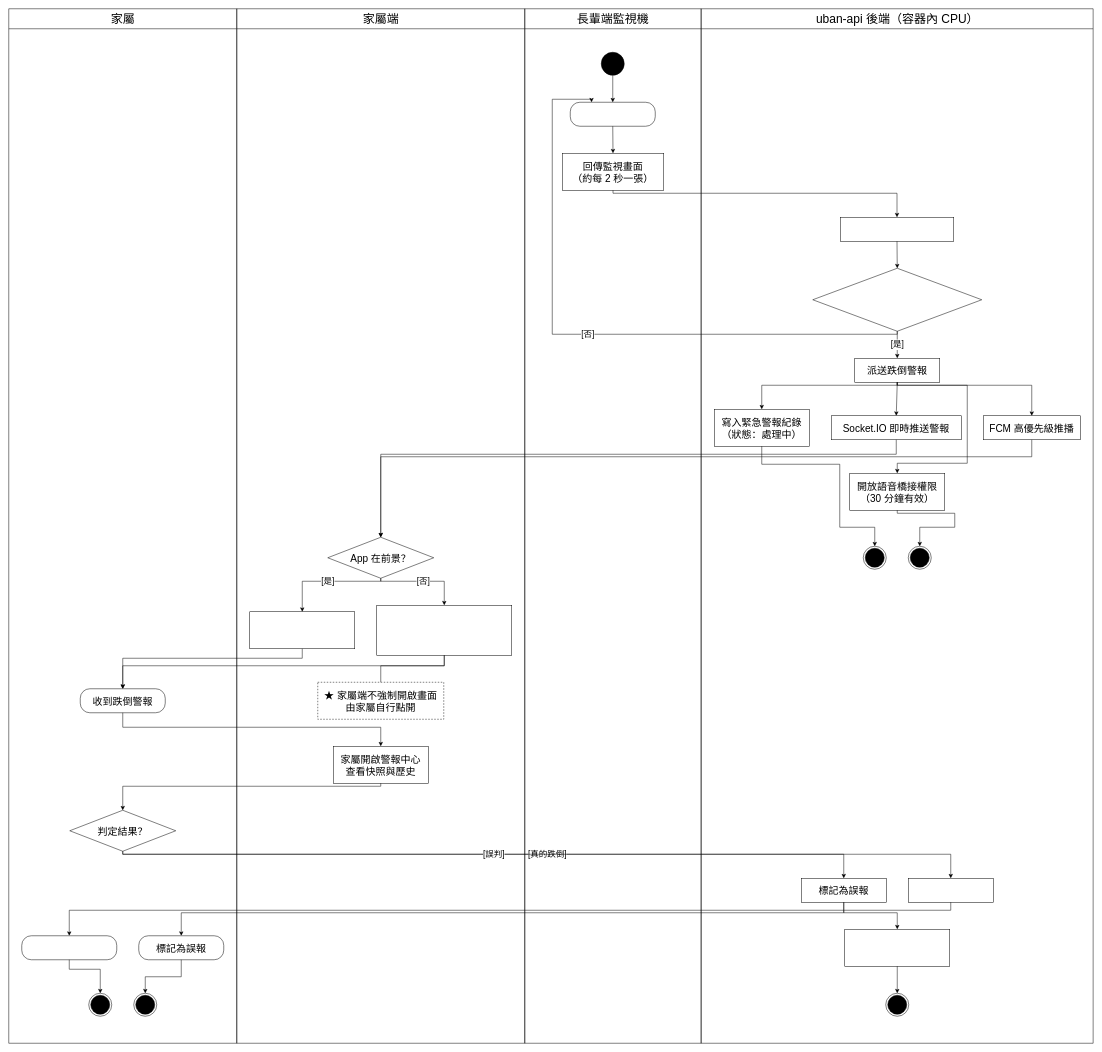
Image size: 1102x1052. Some labels were removed from this diagram. Here are the shapes that lost their labels. From the top down, the centre of each, then its label:
[612,114]: 持續擷取影格
[897,229]: YOLOv8 影像辨識推論
[897,299]: 多張畫面連續判定 跌倒、爬行、長時間靜止？
[302,630]: 前景：即時收到警報 彈出視窗並語音朗讀
[444,630]: 背景：收到 FCM 推播 以鬧鐘音量通知 （可繞過勿擾、鎖屏可見）
[950,890]: 開通語音橋接
[69,947]: 語音橋接直接關心
[897,947]: 警報與誤報比例統計 （開發者管理端）
